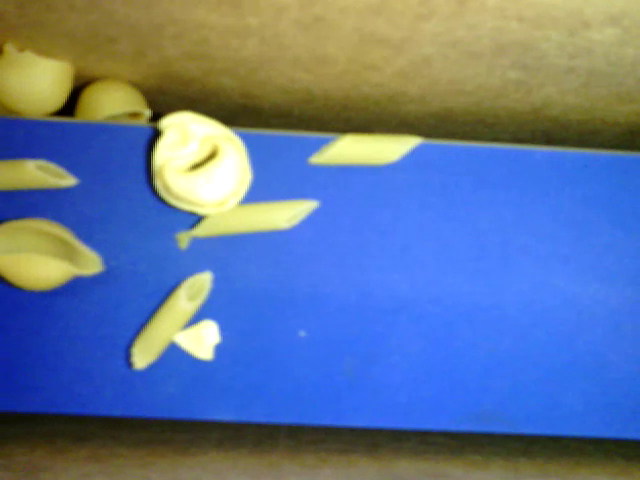penne: (130, 270, 211, 371), (191, 201, 316, 237), (311, 132, 421, 163), (1, 159, 80, 192)
shell: (1, 217, 105, 292), (1, 43, 74, 115), (74, 81, 151, 121)
tortellini: (149, 110, 251, 212)
